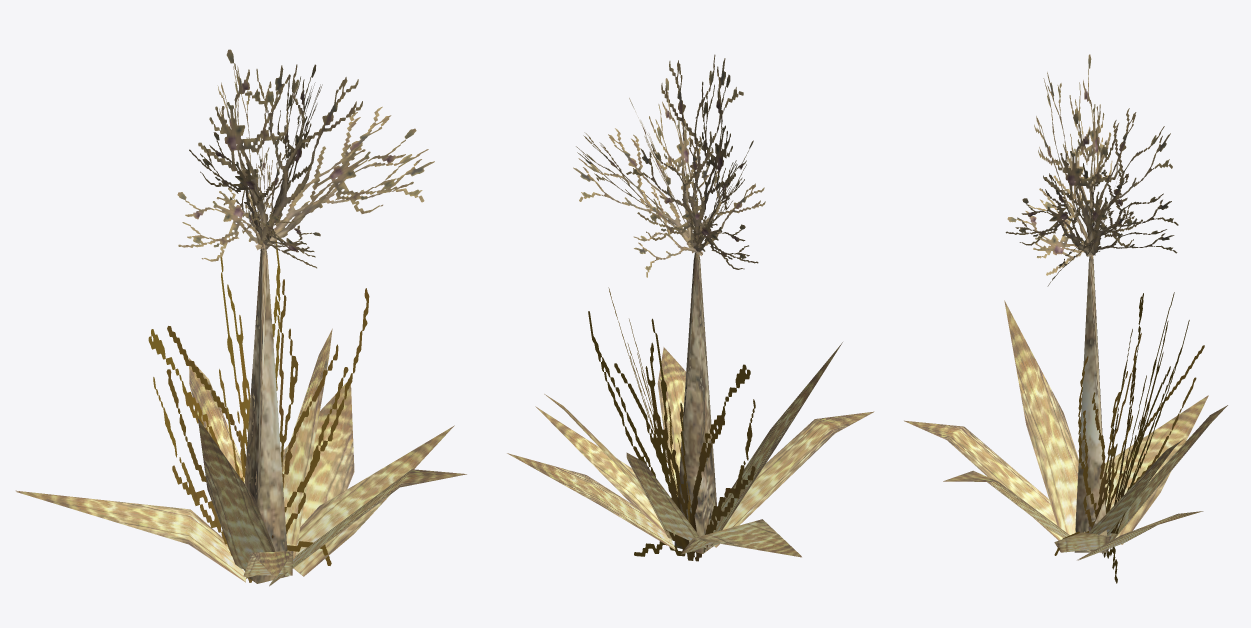
File: succ_tatt_jinapur_bush_l2.fbx
The picture shows the model from 3 angles, left to right: view 1: azimuth 30°, elevation 25°; view 2: azimuth 150°, elevation 25°; view 3: azimuth 270°, elevation 25°; orthographic projection. The views are drawn at different scales.
Parts seen in each view (by area): view 1: mesh_node; view 2: mesh_node; view 3: mesh_node.
Part boxes in pixels (x1,y1,x2,y2): mesh_node: (15, 49, 466, 586); mesh_node: (507, 54, 874, 561); mesh_node: (904, 54, 1227, 583).
Size of the model in its own units: 1.86 by 2.78 by 1.62.
